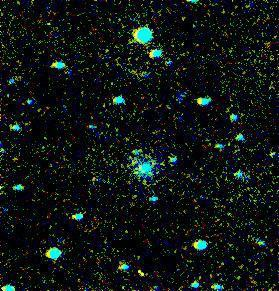star: (184, 84, 214, 114)
